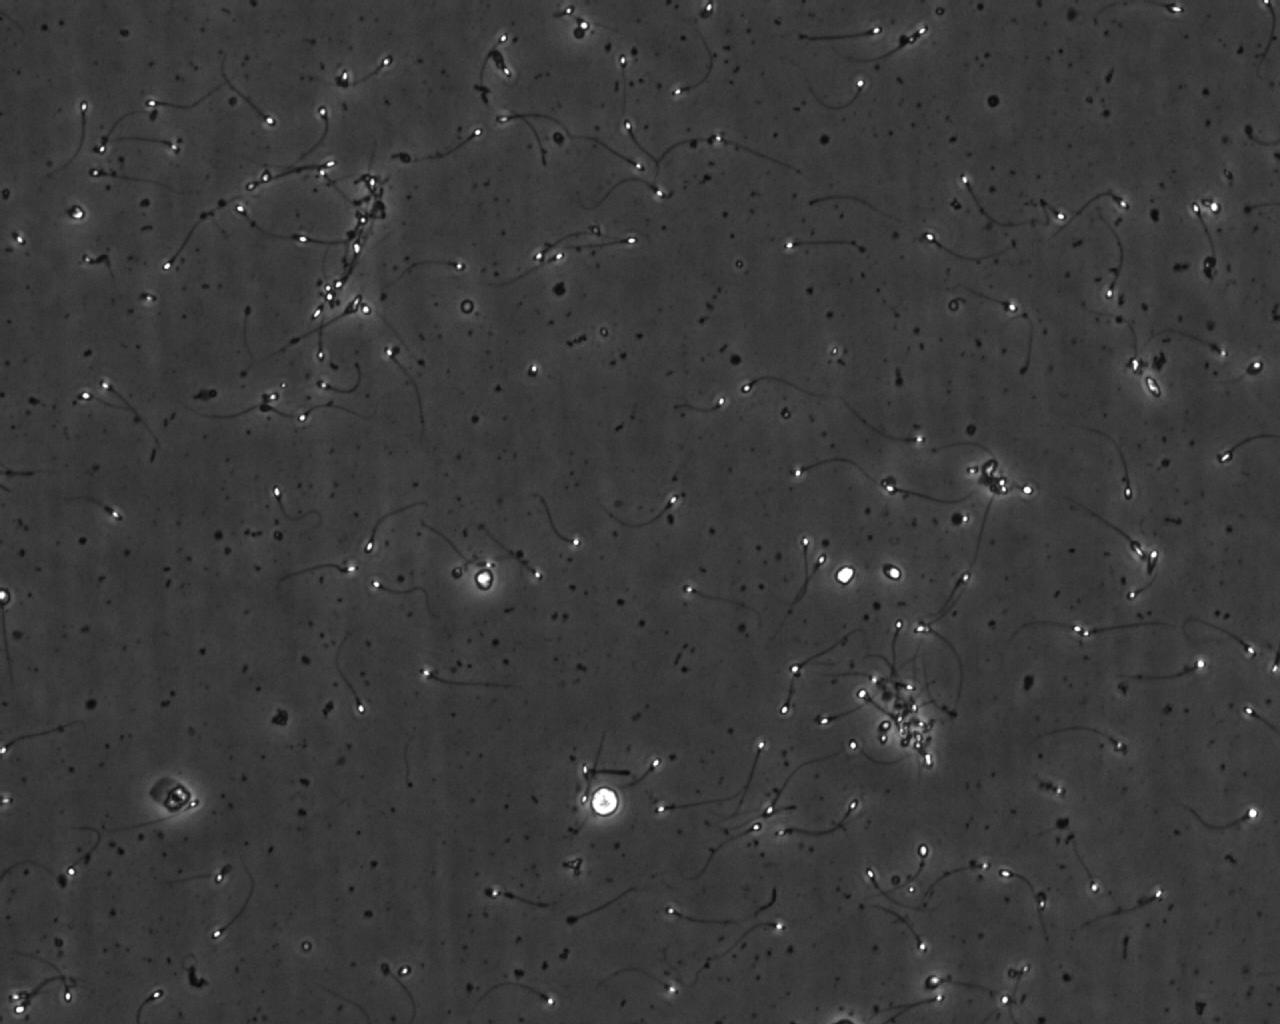cell: (584, 779, 625, 823), (160, 781, 194, 816), (831, 561, 860, 590), (471, 565, 497, 595)
